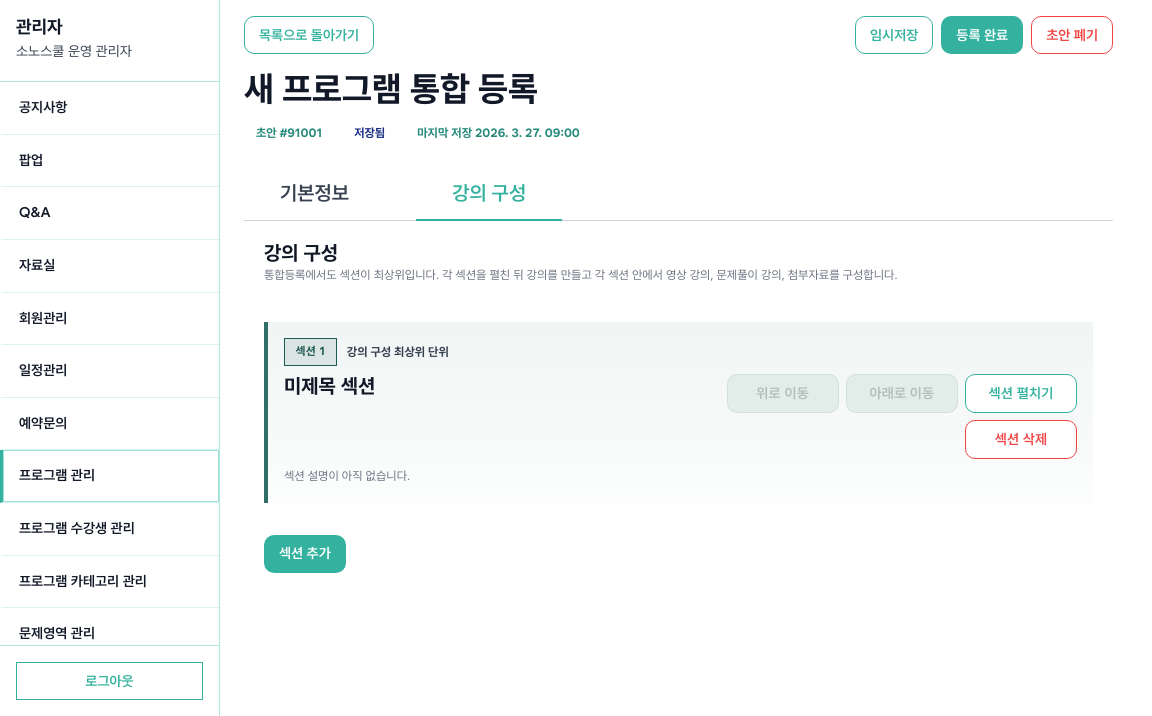
Test: AdminConsolePage › treats offline lecture duration as schedule-driven and hides legacy prelearning video metadata
The image size is (1152, 716).
Expected: the heading "새 프로그램 통합 등록" is shown, [244,68,538,109]
Step 1. Click the button "섹션 펼치기" → x=1021, y=393, box [965,374,1077,413]
(page scrolled)
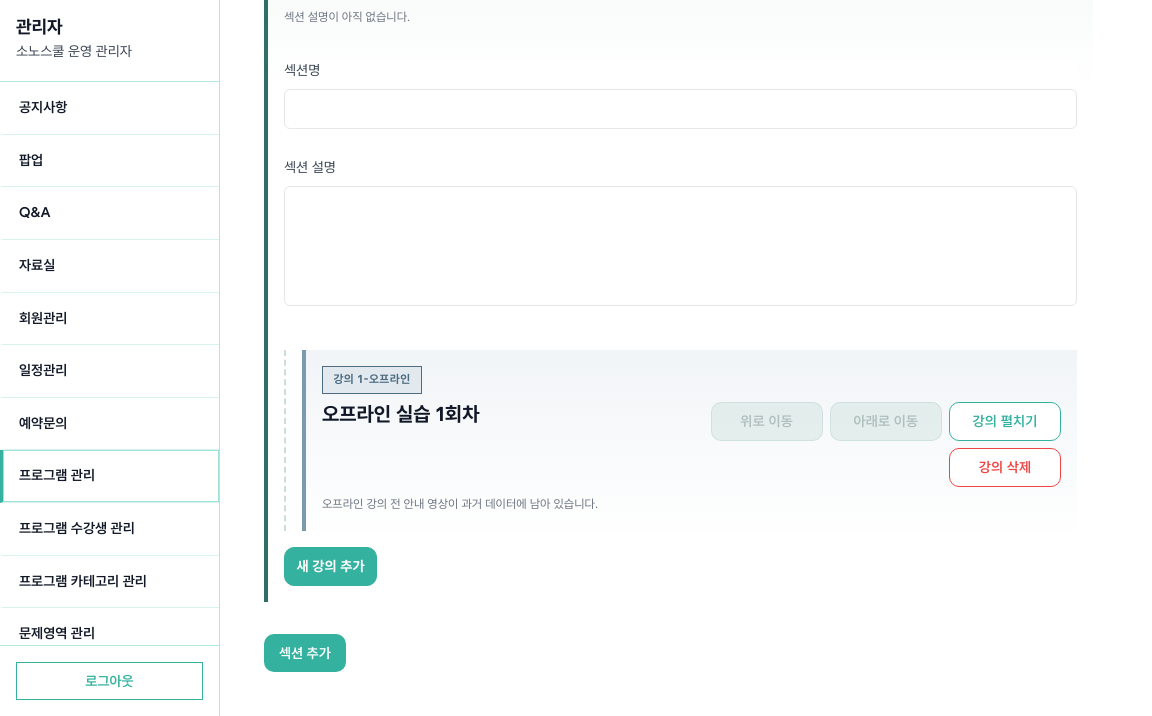
Step 2. Click the button "강의 펼치기" → x=1005, y=421, box [949,402,1061,441]
(page scrolled)
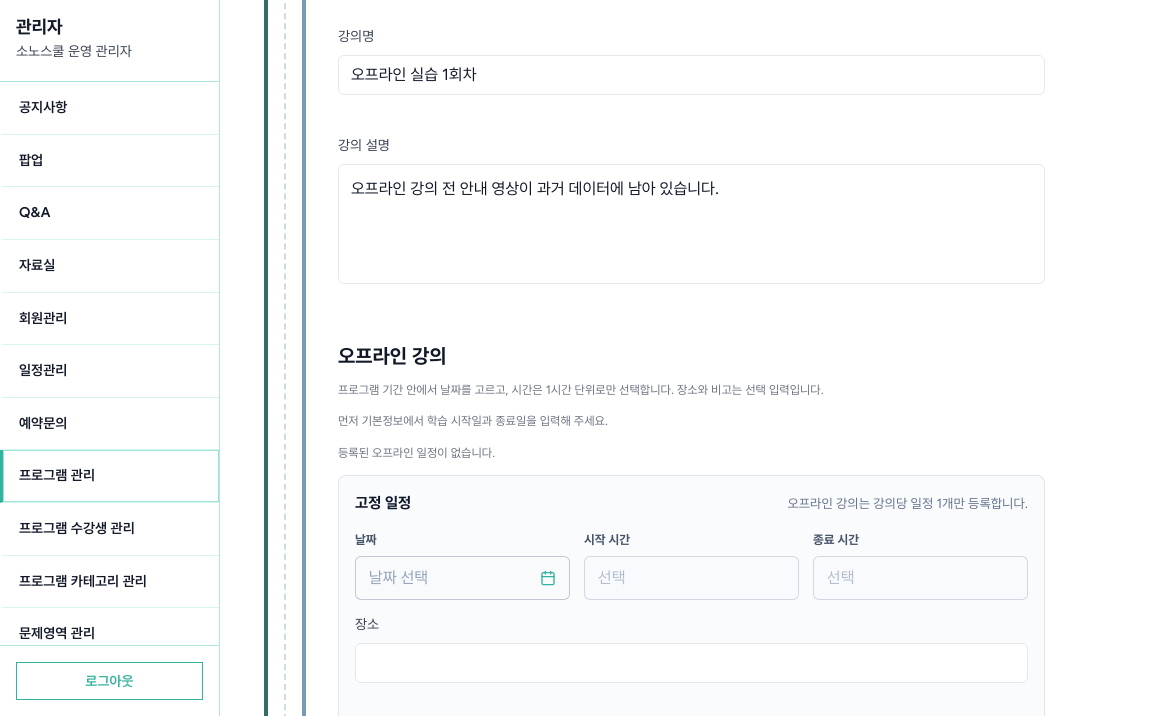
Result: the heading "오프라인 강의" is shown at [338,344,447,368]
